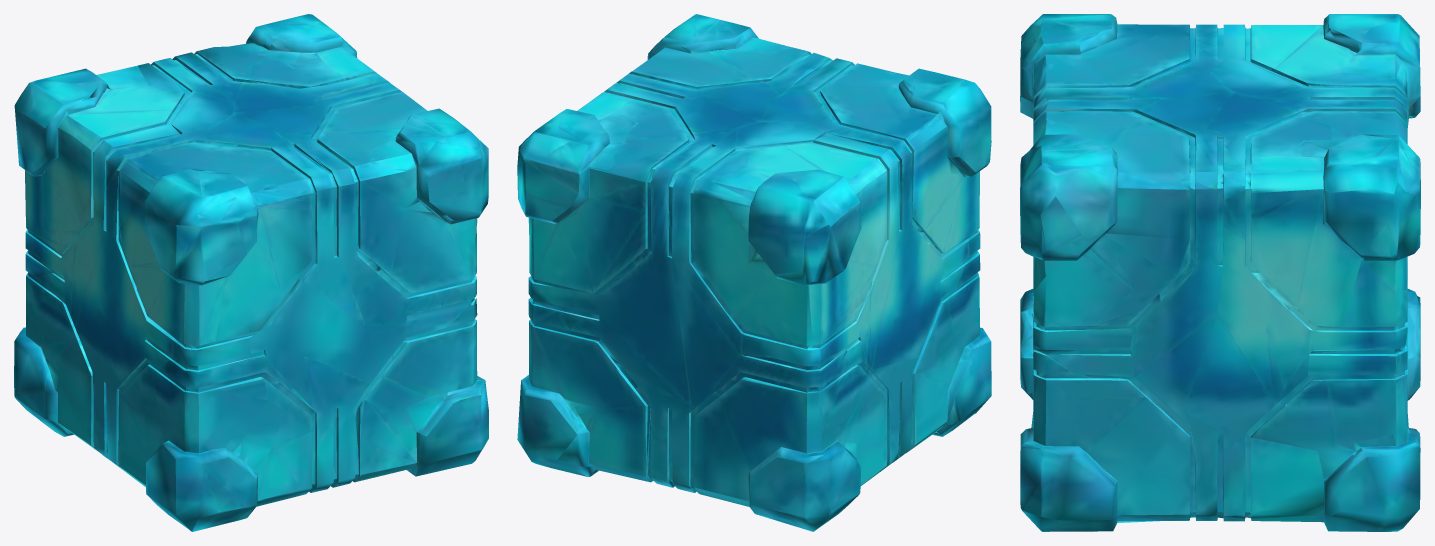
Rendered from runner-cube-ai.glb.
3 renders of one model, left to right at view 1: azimuth 30°, elevation 25°; view 2: azimuth 150°, elevation 25°; view 3: azimuth 270°, elevation 25°, orthographic. The views are drawn at different scales.
Bounding box in the file's own units: 1.86 × 1.9 × 1.87.
Materials: 1 (1 with a texture image).
